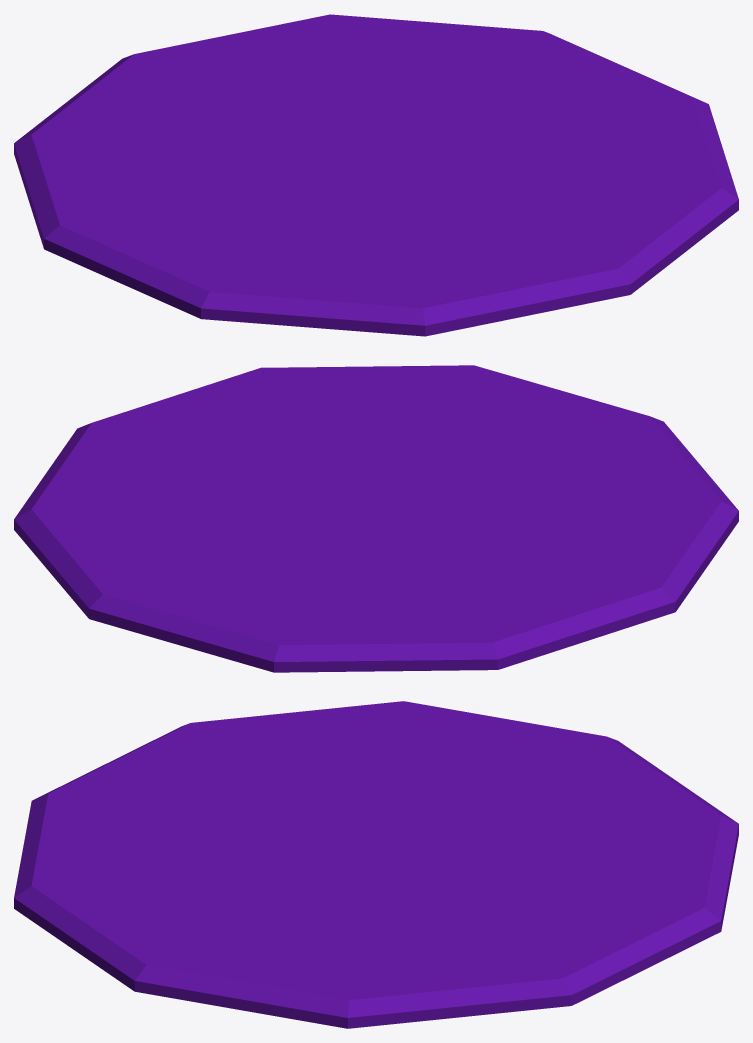
Rendered from SeatPouch_2.fbx.
The picture shows the model from 3 angles, top to bottom: view 1: azimuth 30°, elevation 25°; view 2: azimuth 150°, elevation 25°; view 3: azimuth 270°, elevation 25°; orthographic projection. The views are drawn at different scales.
Visible parts, largest first — view 1: SeatPouch_2; view 2: SeatPouch_2; view 3: SeatPouch_2.
Part boxes in pixels (x1,y1,x2,y2): SeatPouch_2: (14,14,738,336); SeatPouch_2: (14,365,738,672); SeatPouch_2: (14,701,738,1028).
Size of the model in its own units: 180 by 5.6 by 175.
